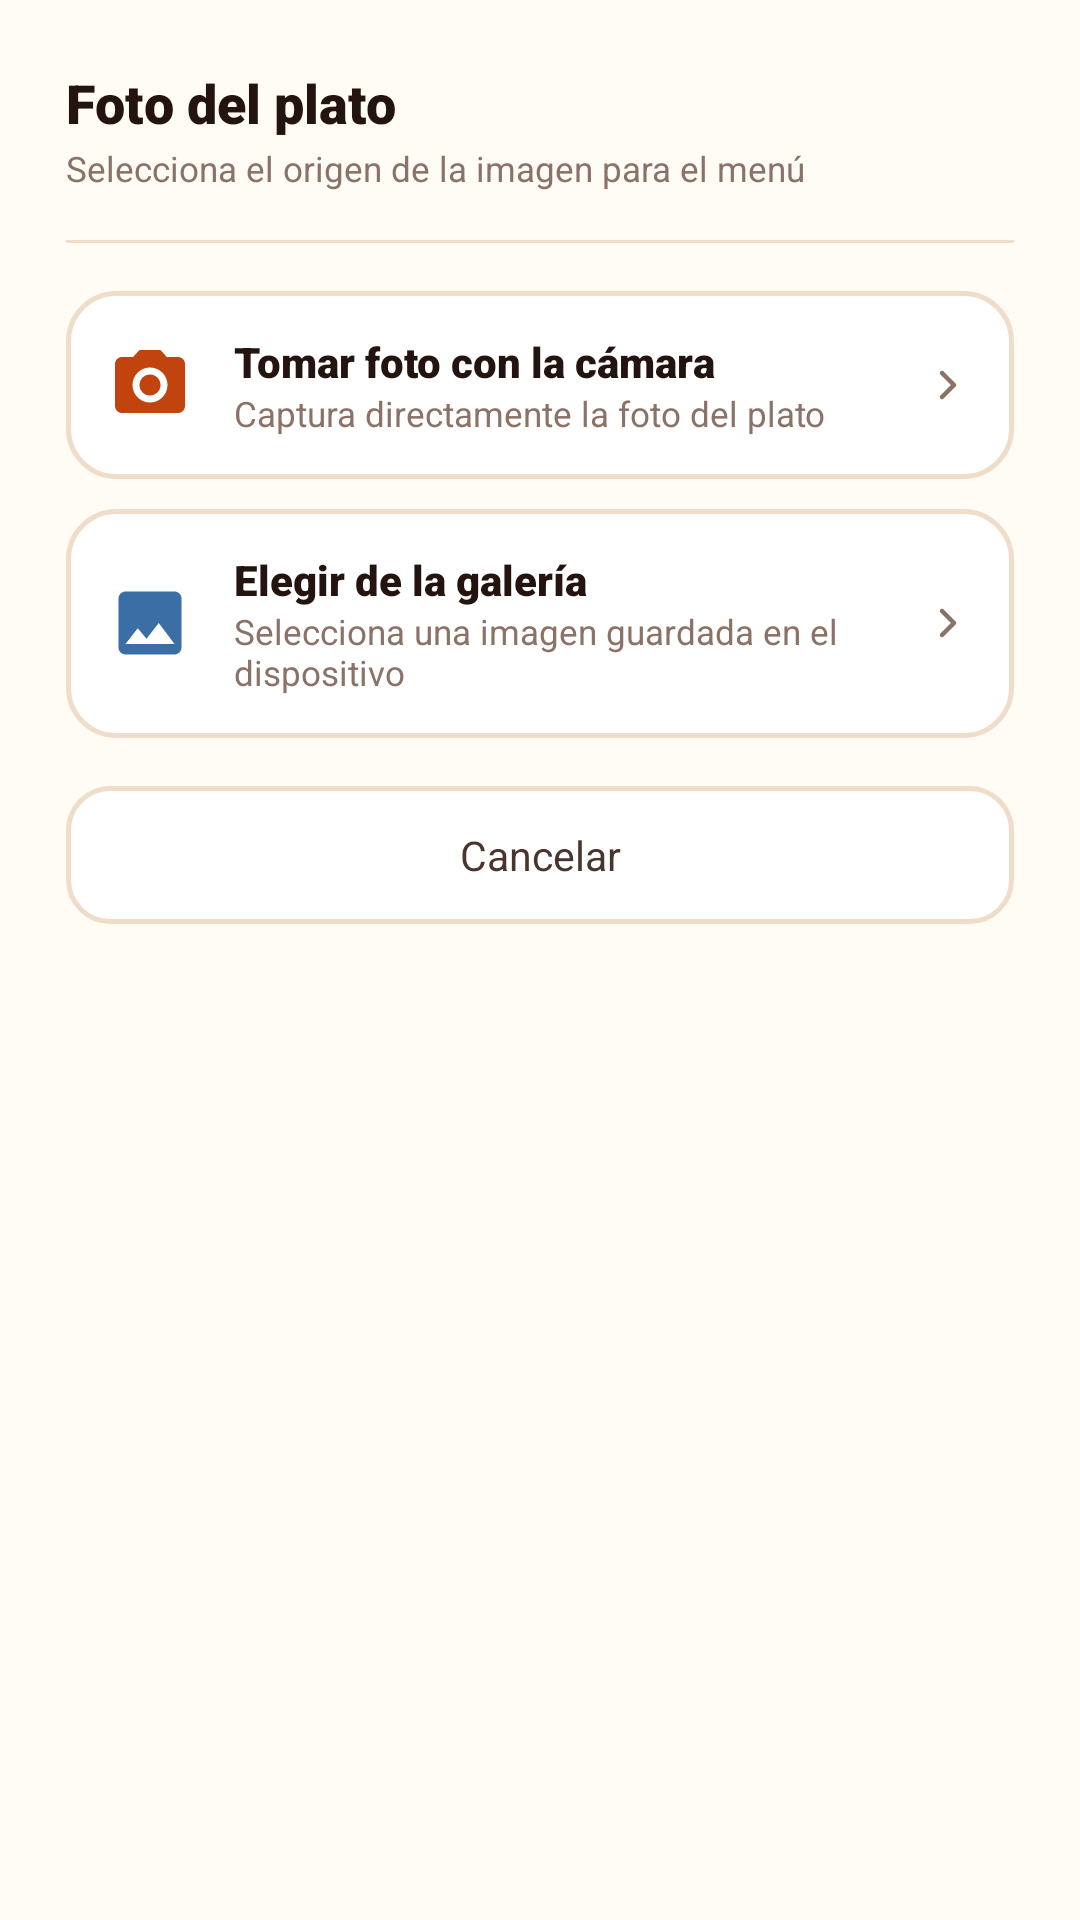

Where to tap for icons on this 1080*1920 app screen, as [x,y]:
camera: [150,381]
chevron right: [948,385], [948,623]
gallery: [150,623]
